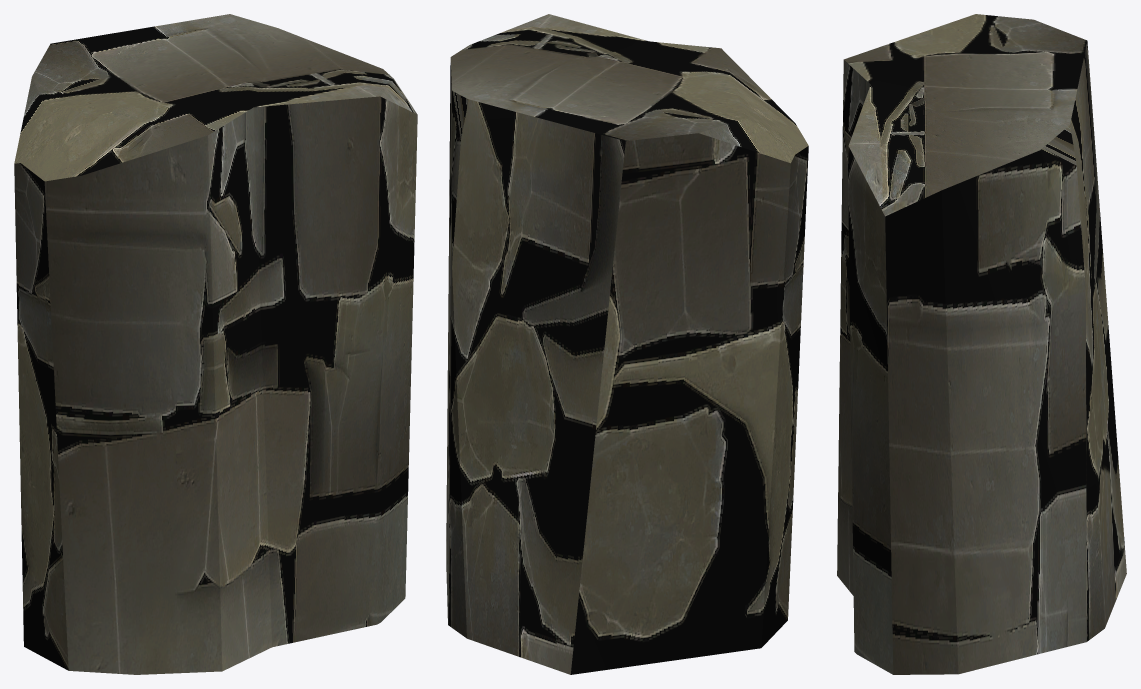
Rendered from riveredge_rock001a.glb.
The picture shows the model from 3 angles, left to right: view 1: azimuth 30°, elevation 25°; view 2: azimuth 150°, elevation 25°; view 3: azimuth 270°, elevation 25°; orthographic projection. The views are drawn at different scales.
Visible parts, largest first — view 1: models\props_rock\riveredge_rock001a.vmdl_c.riveredge_rock00; view 2: models\props_rock\riveredge_rock001a.vmdl_c.riveredge_rock00; view 3: models\props_rock\riveredge_rock001a.vmdl_c.riveredge_rock00.
Boxes of the visible parts, x1,y1,x2,y2 form: models\props_rock\riveredge_rock001a.vmdl_c.riveredge_rock00: (14,14,417,674); models\props_rock\riveredge_rock001a.vmdl_c.riveredge_rock00: (446,14,808,674); models\props_rock\riveredge_rock001a.vmdl_c.riveredge_rock00: (837,14,1126,674).
Size of the model in its own units: 4.85 by 6.89 by 3.5.
1 material, 1 textured.
